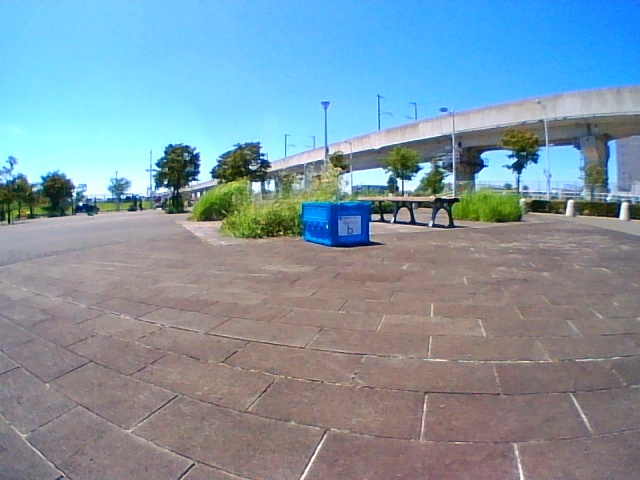blue_box: (304, 203, 369, 242)
tag_b: (339, 216, 362, 235)
